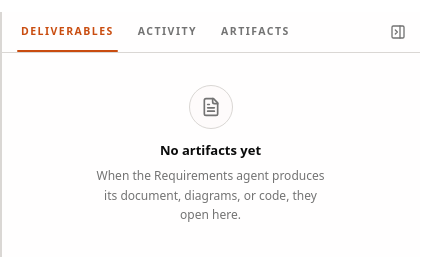
Scenario: the project artifacts tab › files a project-wide document under its own heading
What coordinates should you click on to do the following:
click the tab "Artifacts"
I would click on:
 (255, 32)
Its box is [209,12,302,52].
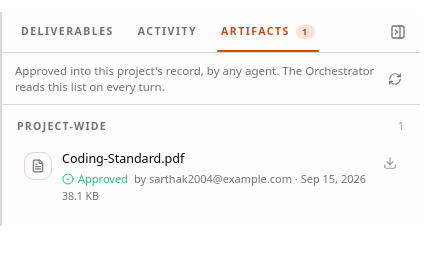
Now the element with test id "project-artifact-group-project" is shown, box [9,113,412,214]
Now the text "Coding-Standard.pdf" is shown, box [62,150,184,167]
Now the text "Project-wide" is shown, box [17,119,107,135]
